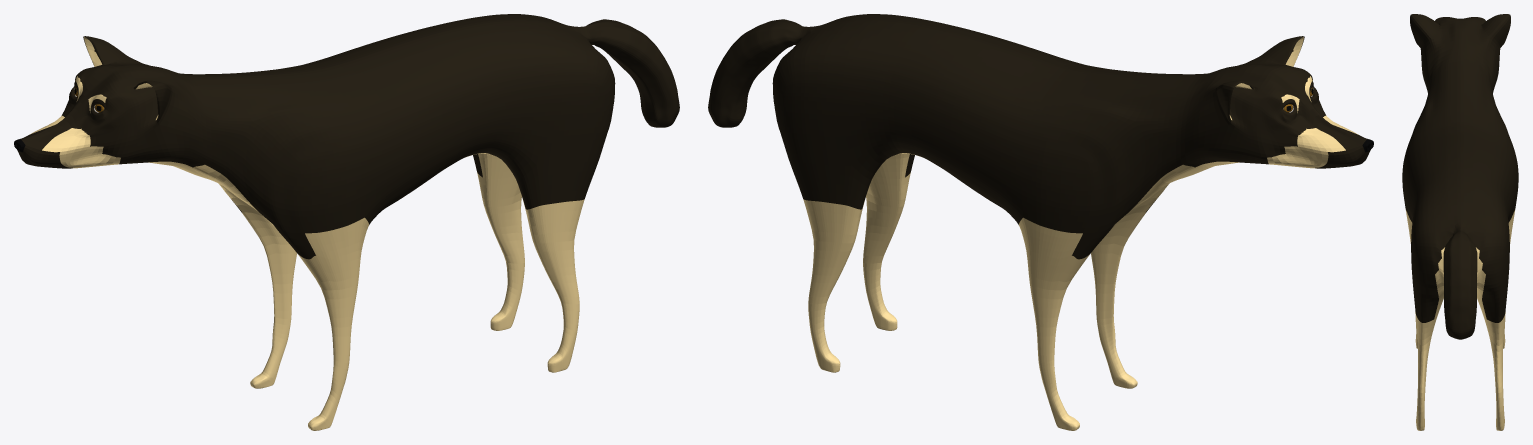
File: max.glb
The picture shows the model from 3 angles, left to right: view 1: azimuth 30°, elevation 25°; view 2: azimuth 150°, elevation 25°; view 3: azimuth 270°, elevation 25°; orthographic projection. The views are drawn at different scales.
Parts seen in each view (by area): view 1: Class Dogg With Materials; view 2: Class Dogg With Materials; view 3: Class Dogg With Materials.
Boxes of the visible parts, box(x1,y1,x2,y2) form: Class Dogg With Materials: box(14, 14, 679, 430); Class Dogg With Materials: box(708, 14, 1373, 430); Class Dogg With Materials: box(1402, 14, 1518, 430).
Bounding box in the file's own units: 10.4 × 5.85 × 2.26.
